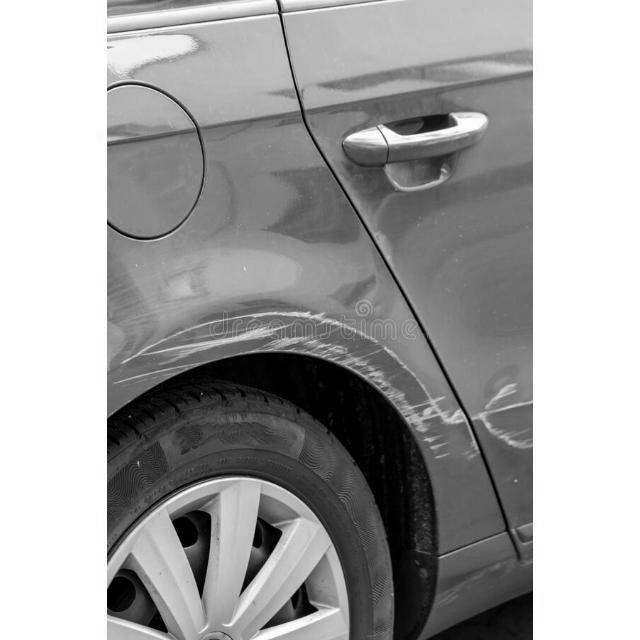doorouter-dent: (357, 3, 533, 630)
quaterpanel-dent: (108, 20, 353, 527)
